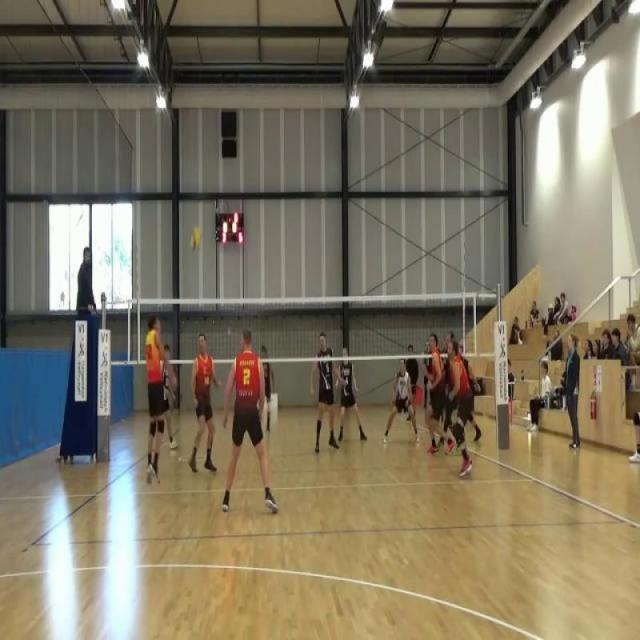volleyball: (188, 224, 203, 256)
